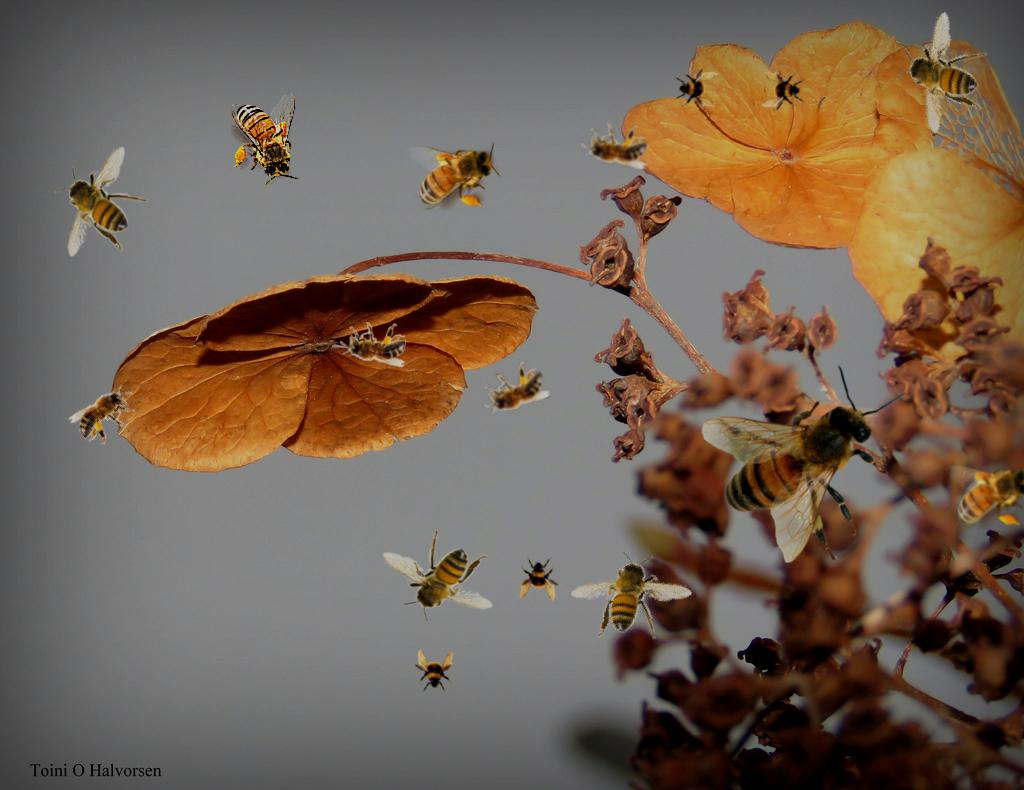Bee: (701, 364, 905, 563), (563, 530, 704, 664), (879, 2, 1008, 140), (382, 529, 493, 623), (54, 146, 148, 257), (231, 92, 299, 185), (407, 142, 500, 210), (66, 374, 146, 453), (473, 355, 553, 428), (945, 461, 1024, 529), (581, 124, 647, 169), (340, 322, 406, 367), (518, 557, 562, 601), (411, 649, 455, 693), (761, 70, 805, 114), (674, 65, 718, 109)
